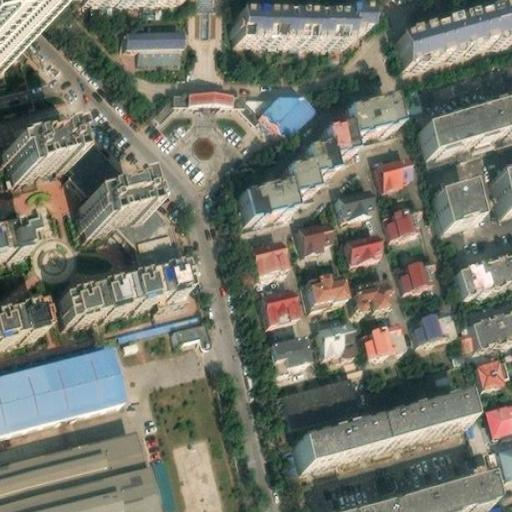building: (239, 99, 399, 223), (294, 395, 471, 466), (0, 349, 122, 432), (3, 122, 137, 197), (56, 267, 186, 324), (395, 3, 512, 65), (116, 186, 179, 275), (233, 9, 369, 50), (347, 476, 494, 512), (418, 102, 512, 155), (281, 371, 362, 424), (5, 135, 74, 177), (86, 181, 147, 226), (257, 92, 314, 139), (455, 251, 512, 293), (429, 184, 474, 228), (468, 306, 512, 346), (362, 316, 406, 353), (256, 284, 299, 321), (409, 304, 450, 341), (399, 249, 440, 284), (268, 329, 310, 363), (309, 263, 353, 295), (0, 304, 38, 341), (166, 321, 209, 353), (253, 234, 291, 270), (320, 316, 358, 352), (374, 154, 414, 187), (300, 214, 338, 247), (338, 181, 376, 214), (357, 272, 394, 305), (0, 223, 34, 257), (481, 397, 512, 434), (126, 25, 185, 44), (347, 226, 383, 256), (384, 202, 418, 232), (138, 43, 184, 65), (0, 37, 25, 77), (477, 352, 508, 383), (490, 169, 512, 210), (173, 86, 236, 99), (499, 441, 512, 474)
